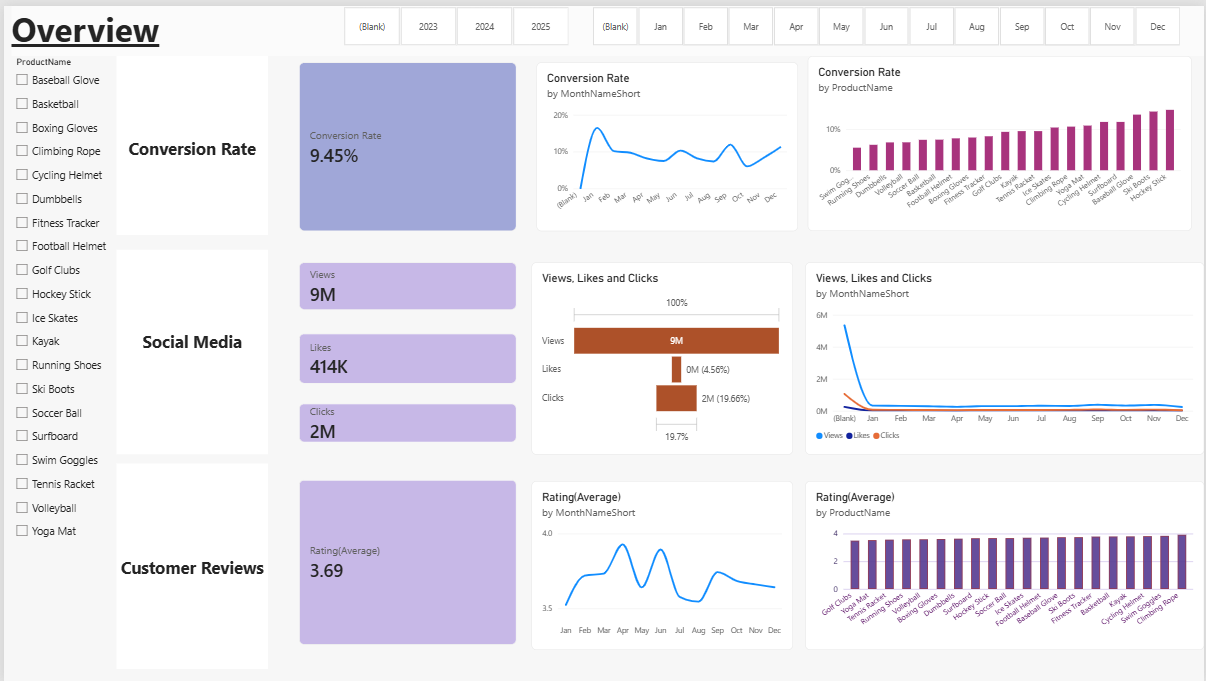

The page's visual inventory and layout, read from the dashboard file:
{"tool":"powerbi","page":{"name":"Overview","canvas":[1920,1080],"ordinal":0},"visuals":[{"type":"textbox","box":[12.3,0,1907.7,80],"z":0},{"type":"slicer","fields":{"Values":["dim_products.ProductName"]},"box":[12,80,268,982],"z":1000},{"type":"textbox","box":[179.7,80.8,242.3,286.7],"z":2000},{"type":"textbox","box":[179.7,389.7,242.3,327.1],"z":3000},{"type":"textbox","box":[179.7,731,242.3,329.2],"z":4000},{"type":"cardVisual","fields":{"Data":["Calculations.Conversion Rate"]},"box":[472,90,348,270],"z":5000},{"type":"cardVisual","fields":{"Data":["Calculations.Views"]},"box":[472,410,348,76],"z":6000},{"type":"cardVisual","fields":{"Data":["Calculations.Rating(Average)"]},"box":[472,758,348,264],"z":7000},{"type":"cardVisual","fields":{"Data":["Calculations.Likes"]},"box":[472,524,348,80],"z":8000},{"type":"cardVisual","fields":{"Data":["Calculations.Clicks"]},"box":[472,636,348,62],"z":9000},{"type":"slicer","fields":{"Values":["Calendar.MonthNameShort"]},"box":[922,0,978,64],"z":10000},{"type":"slicer","fields":{"Values":["Calendar.Year"]},"box":[524,0,398,64],"z":11000},{"type":"lineChart","fields":{"Category":["Calendar.MonthNameShort"],"Y":["Calculations.Conversion Rate"]},"box":[852,90,418,270],"z":12000},{"type":"clusteredColumnChart","fields":{"Category":["dim_products.ProductName"],"Y":["Calculations.Conversion Rate"]},"box":[1286,80,614,280],"z":13000},{"type":"lineChart","fields":{"Category":["Calendar.MonthNameShort"],"Y":["Calculations.Views","Calculations.Likes","Calculations.Clicks"]},"box":[1282,410,638,308],"z":14000},{"type":"funnel","fields":{"Y":["Calculations.Views","Calculations.Likes","Calculations.Clicks"]},"box":[844,410,418,308],"z":15000},{"type":"lineChart","fields":{"Category":["Calendar.MonthNameShort"],"Y":["Calculations.Rating(Average)"]},"box":[844,760,418,270],"z":16000},{"type":"clusteredColumnChart","fields":{"Y":["Calculations.Rating(Average)"],"Category":["dim_products.ProductName"]},"box":[1282,760,638,270],"z":17000}]}

Visuals, with their boxes in screenshot pixels (x1, y1, x2, y2), scaled from the page's 1920x1080 canvas onto the 1206x681 screenshot:
textbox: 8 0 1205 50
slicer - dim_products.ProductName: 8 50 176 670
textbox: 113 51 265 232
textbox: 113 246 265 452
textbox: 113 461 265 669
cardVisual - Calculations.Conversion Rate: 296 57 515 227
cardVisual - Calculations.Views: 296 259 515 306
cardVisual - Calculations.Rating(Average): 296 478 515 644
cardVisual - Calculations.Likes: 296 330 515 381
cardVisual - Calculations.Clicks: 296 401 515 440
slicer - Calendar.MonthNameShort: 579 0 1193 40
slicer - Calendar.Year: 329 0 579 40
lineChart - Calendar.MonthNameShort x Calculations.Conversion Rate: 535 57 798 227
clusteredColumnChart - dim_products.ProductName x Calculations.Conversion Rate: 808 50 1193 227
lineChart - Calendar.MonthNameShort x Calculations.Views: 805 259 1205 453
funnel - Calculations.Views x Calculations.Likes: 530 259 793 453
lineChart - Calendar.MonthNameShort x Calculations.Rating(Average): 530 479 793 649
clusteredColumnChart - Calculations.Rating(Average) x dim_products.ProductName: 805 479 1205 649
